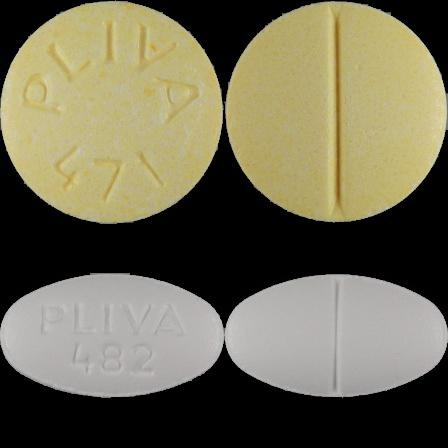50111-471: (0, 0, 224, 224)
